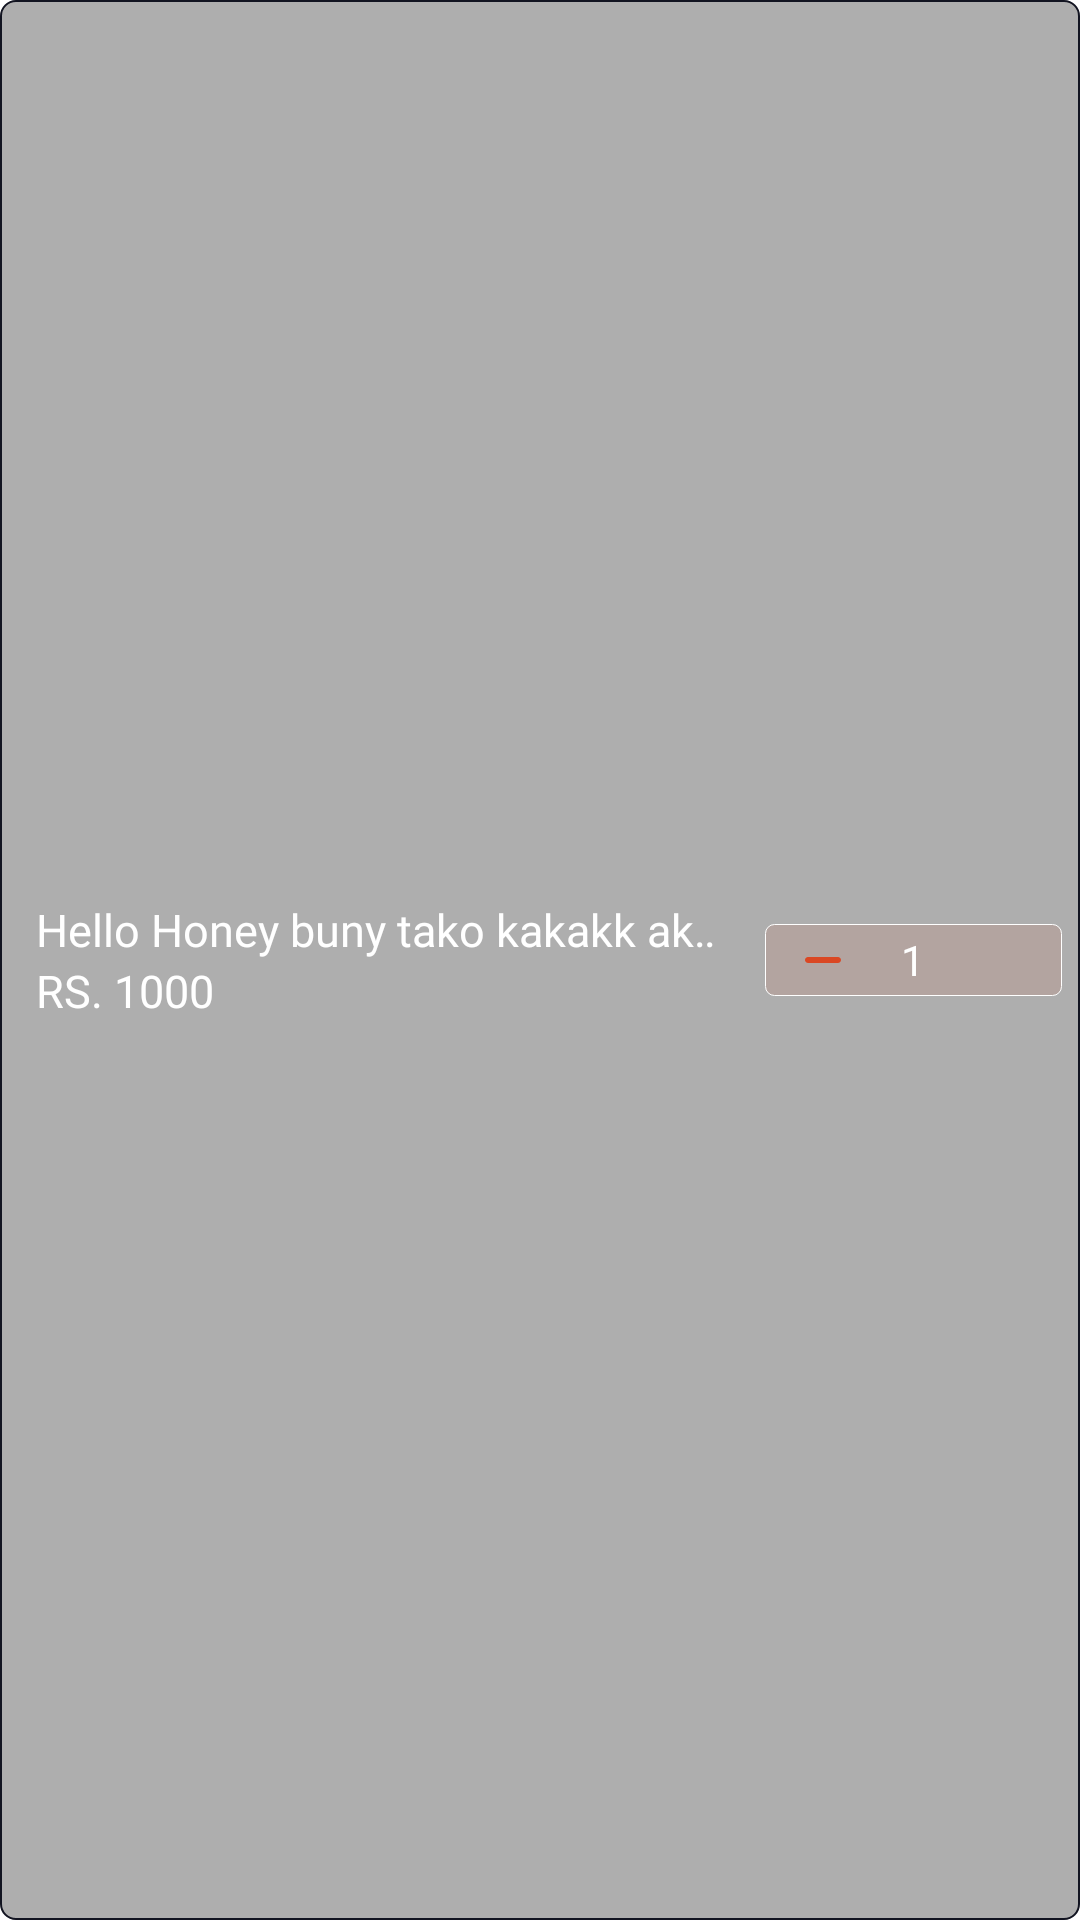

Icons on this 1080px×1920px Android screen, each with its box as (x1, y1, x2, y2):
minus: (765, 924, 880, 996)
